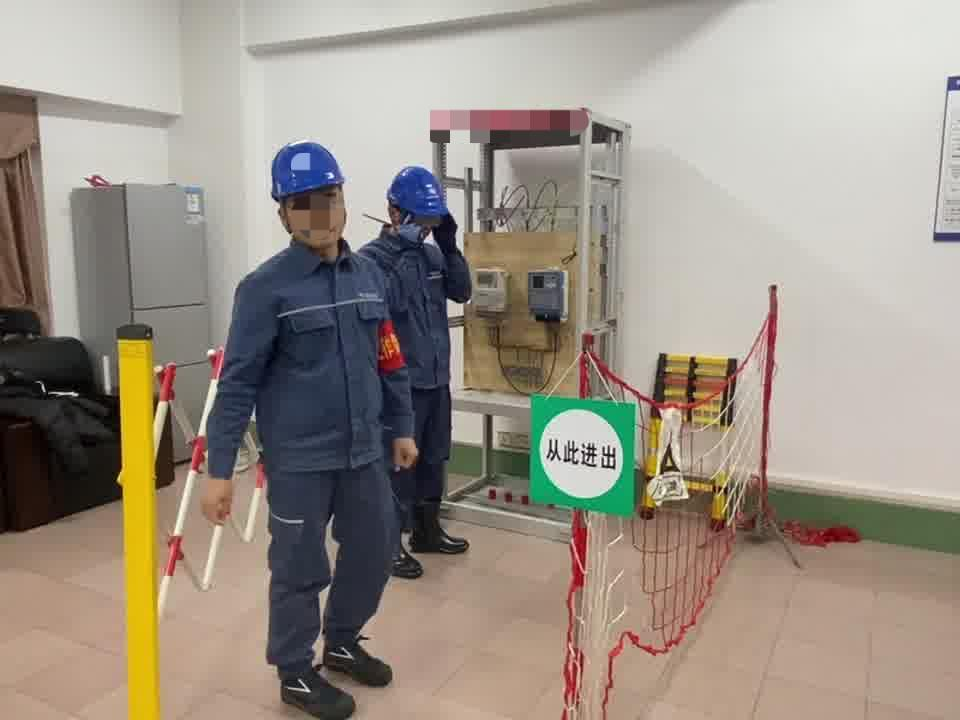halt: (271, 140, 354, 253), (386, 168, 450, 235)
